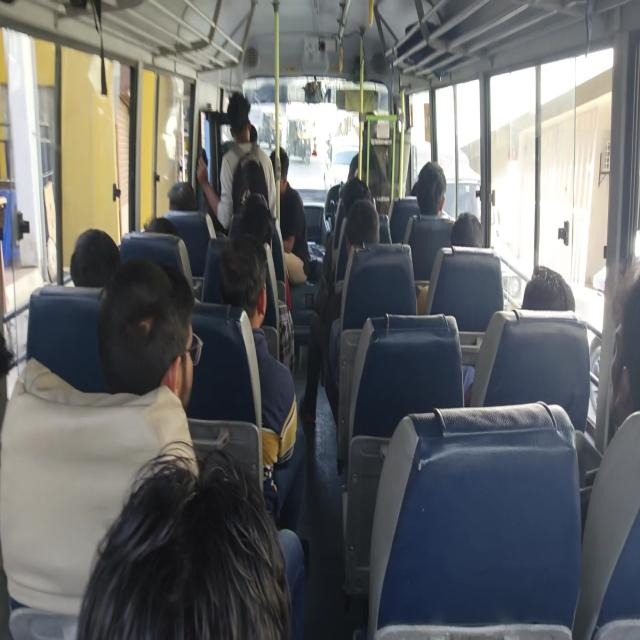person: (96, 498, 255, 640), (116, 246, 192, 403), (611, 278, 640, 487), (224, 228, 289, 310), (0, 308, 43, 396), (339, 197, 408, 248), (74, 208, 116, 282), (270, 143, 306, 208), (526, 260, 565, 319), (167, 169, 210, 213), (234, 200, 274, 247), (150, 205, 188, 251), (448, 214, 492, 252), (342, 177, 382, 217), (424, 167, 456, 216), (224, 93, 252, 136), (190, 132, 213, 182), (250, 179, 276, 218), (400, 167, 430, 197)
